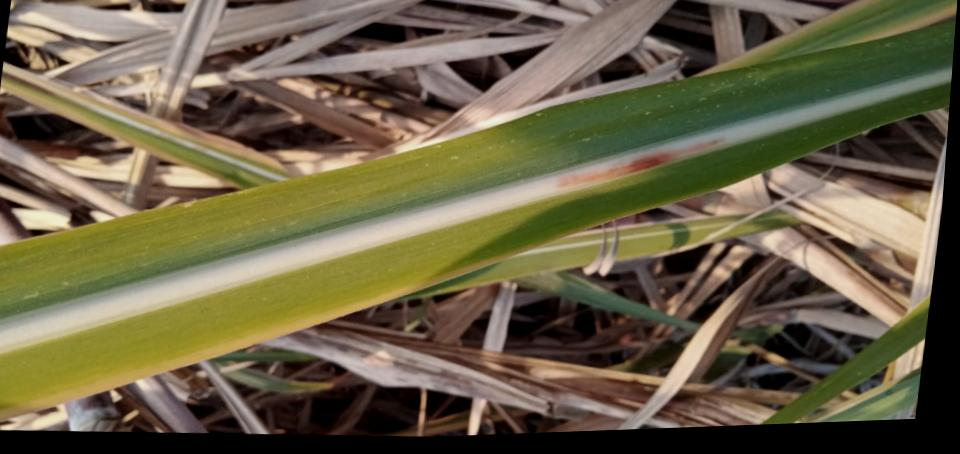RedRot: (555, 134, 728, 189)
